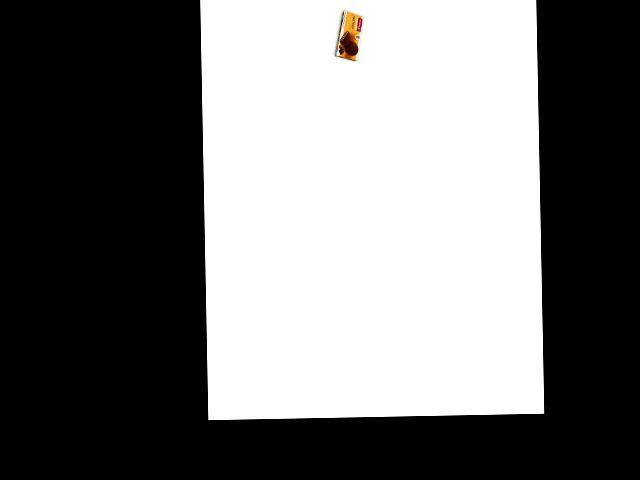chocolate: (339, 2, 364, 64)
